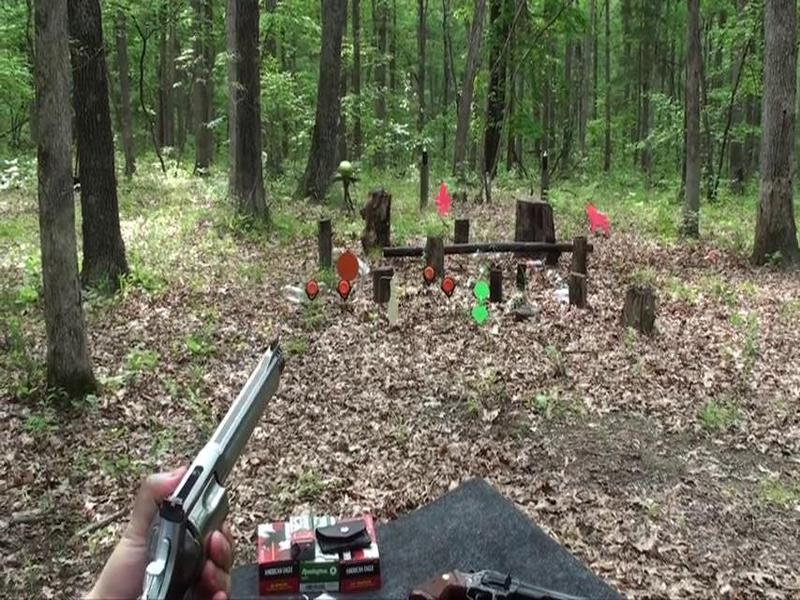Revolver: (112, 326, 292, 600)
